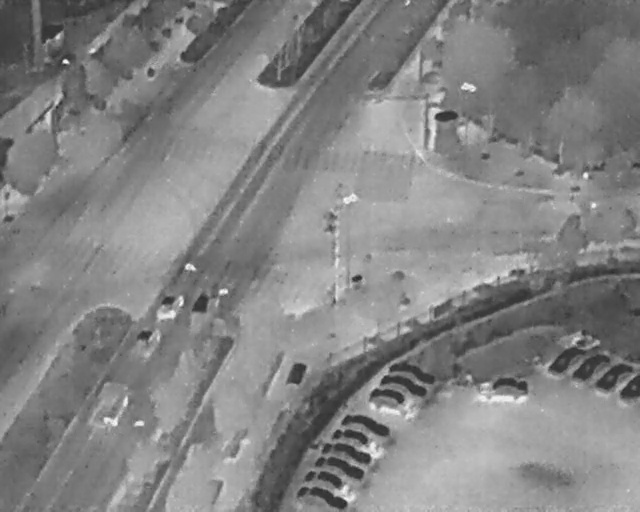Car: (542, 333, 592, 385), (365, 382, 423, 424), (567, 343, 614, 391), (375, 367, 432, 405), (590, 353, 637, 399), (313, 449, 370, 486), (319, 433, 376, 470), (338, 406, 396, 442), (328, 419, 383, 456), (387, 355, 441, 388), (296, 478, 348, 511), (476, 374, 529, 404), (302, 462, 350, 495), (130, 323, 163, 363), (153, 289, 185, 322), (619, 374, 639, 405)
OtherVehicle: (81, 369, 139, 436)
